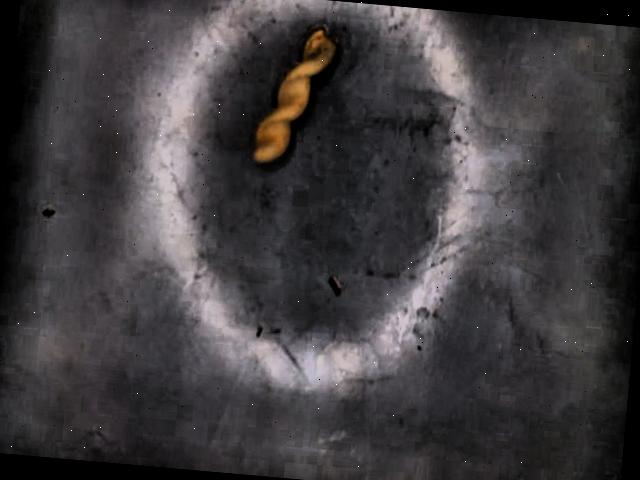Almennt: (251, 21, 341, 163)
